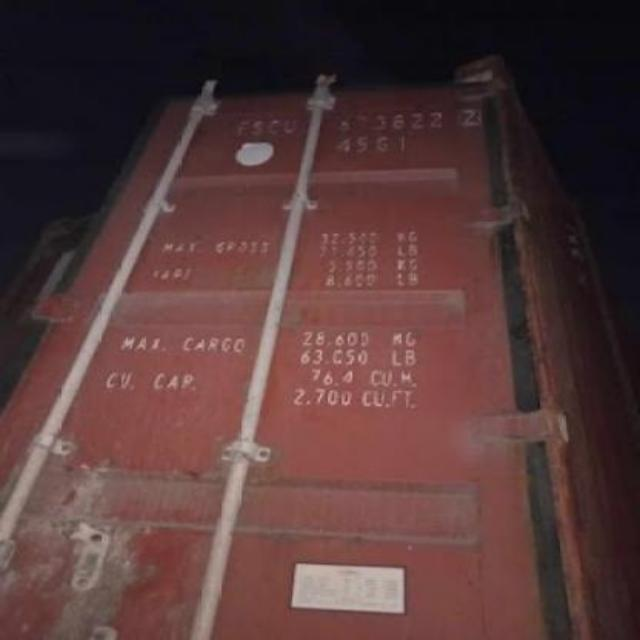2: (424, 103, 444, 135), (458, 102, 479, 128), (408, 105, 424, 132)
3: (372, 101, 388, 133)
6: (331, 99, 352, 135)
7: (352, 108, 370, 136)
8: (388, 98, 404, 134)
C: (268, 108, 282, 140)
F: (235, 112, 248, 138)
S: (247, 110, 263, 140)
U: (280, 108, 300, 142)
